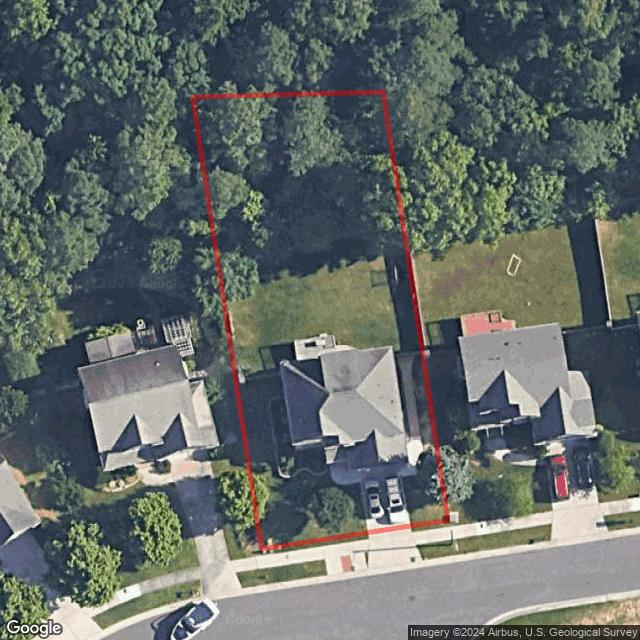Driveway: (331, 461, 410, 531)
Extra-Driveway: (368, 524, 424, 571)
Extra-Lawn: (260, 532, 369, 556), (267, 560, 328, 584), (417, 539, 456, 561), (412, 520, 449, 532)
Extra-Sidewalk: (262, 540, 369, 575), (413, 527, 452, 545)
House: (279, 331, 409, 470)
Lawn: (195, 92, 448, 549)
Other: (267, 393, 326, 478)
